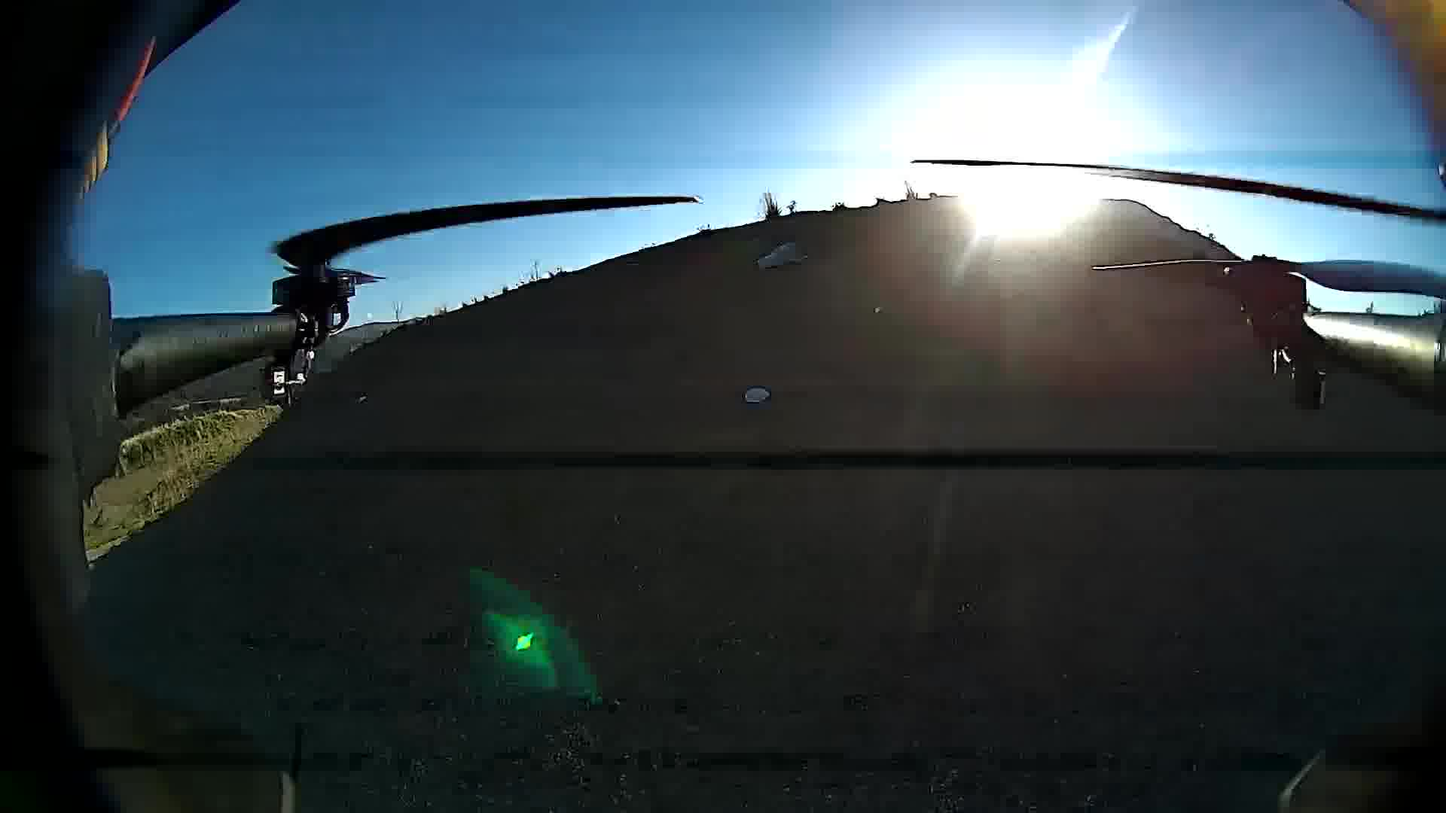Target: (743, 384, 773, 405)
